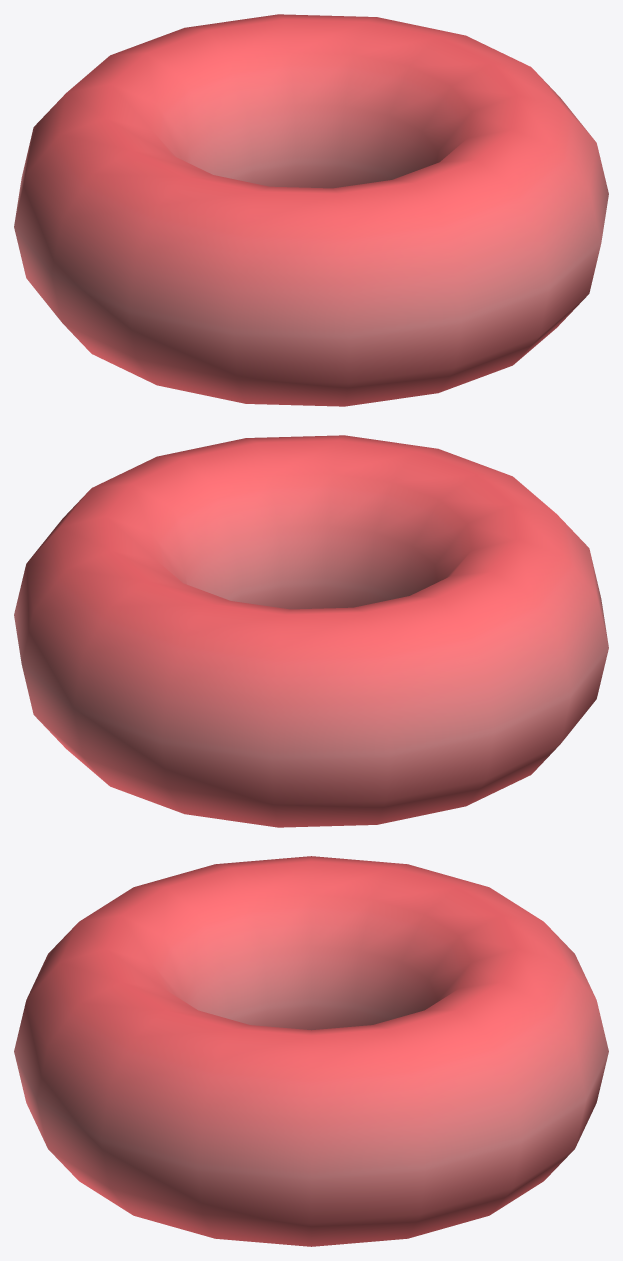
Rendered from Donut_V1_02.fbx.
The picture shows the model from 3 angles, top to bottom: view 1: azimuth 30°, elevation 25°; view 2: azimuth 150°, elevation 25°; view 3: azimuth 270°, elevation 25°; orthographic projection.
Visible parts, largest first — view 1: Donut_V1_02; view 2: Donut_V1_02; view 3: Donut_V1_02.
Part boxes in pixels (bbox=[...]): Donut_V1_02: bbox=[14, 14, 608, 406]; Donut_V1_02: bbox=[14, 435, 608, 827]; Donut_V1_02: bbox=[14, 856, 608, 1246].
Size of the model in its own units: 40.77 by 15.54 by 40.77.
